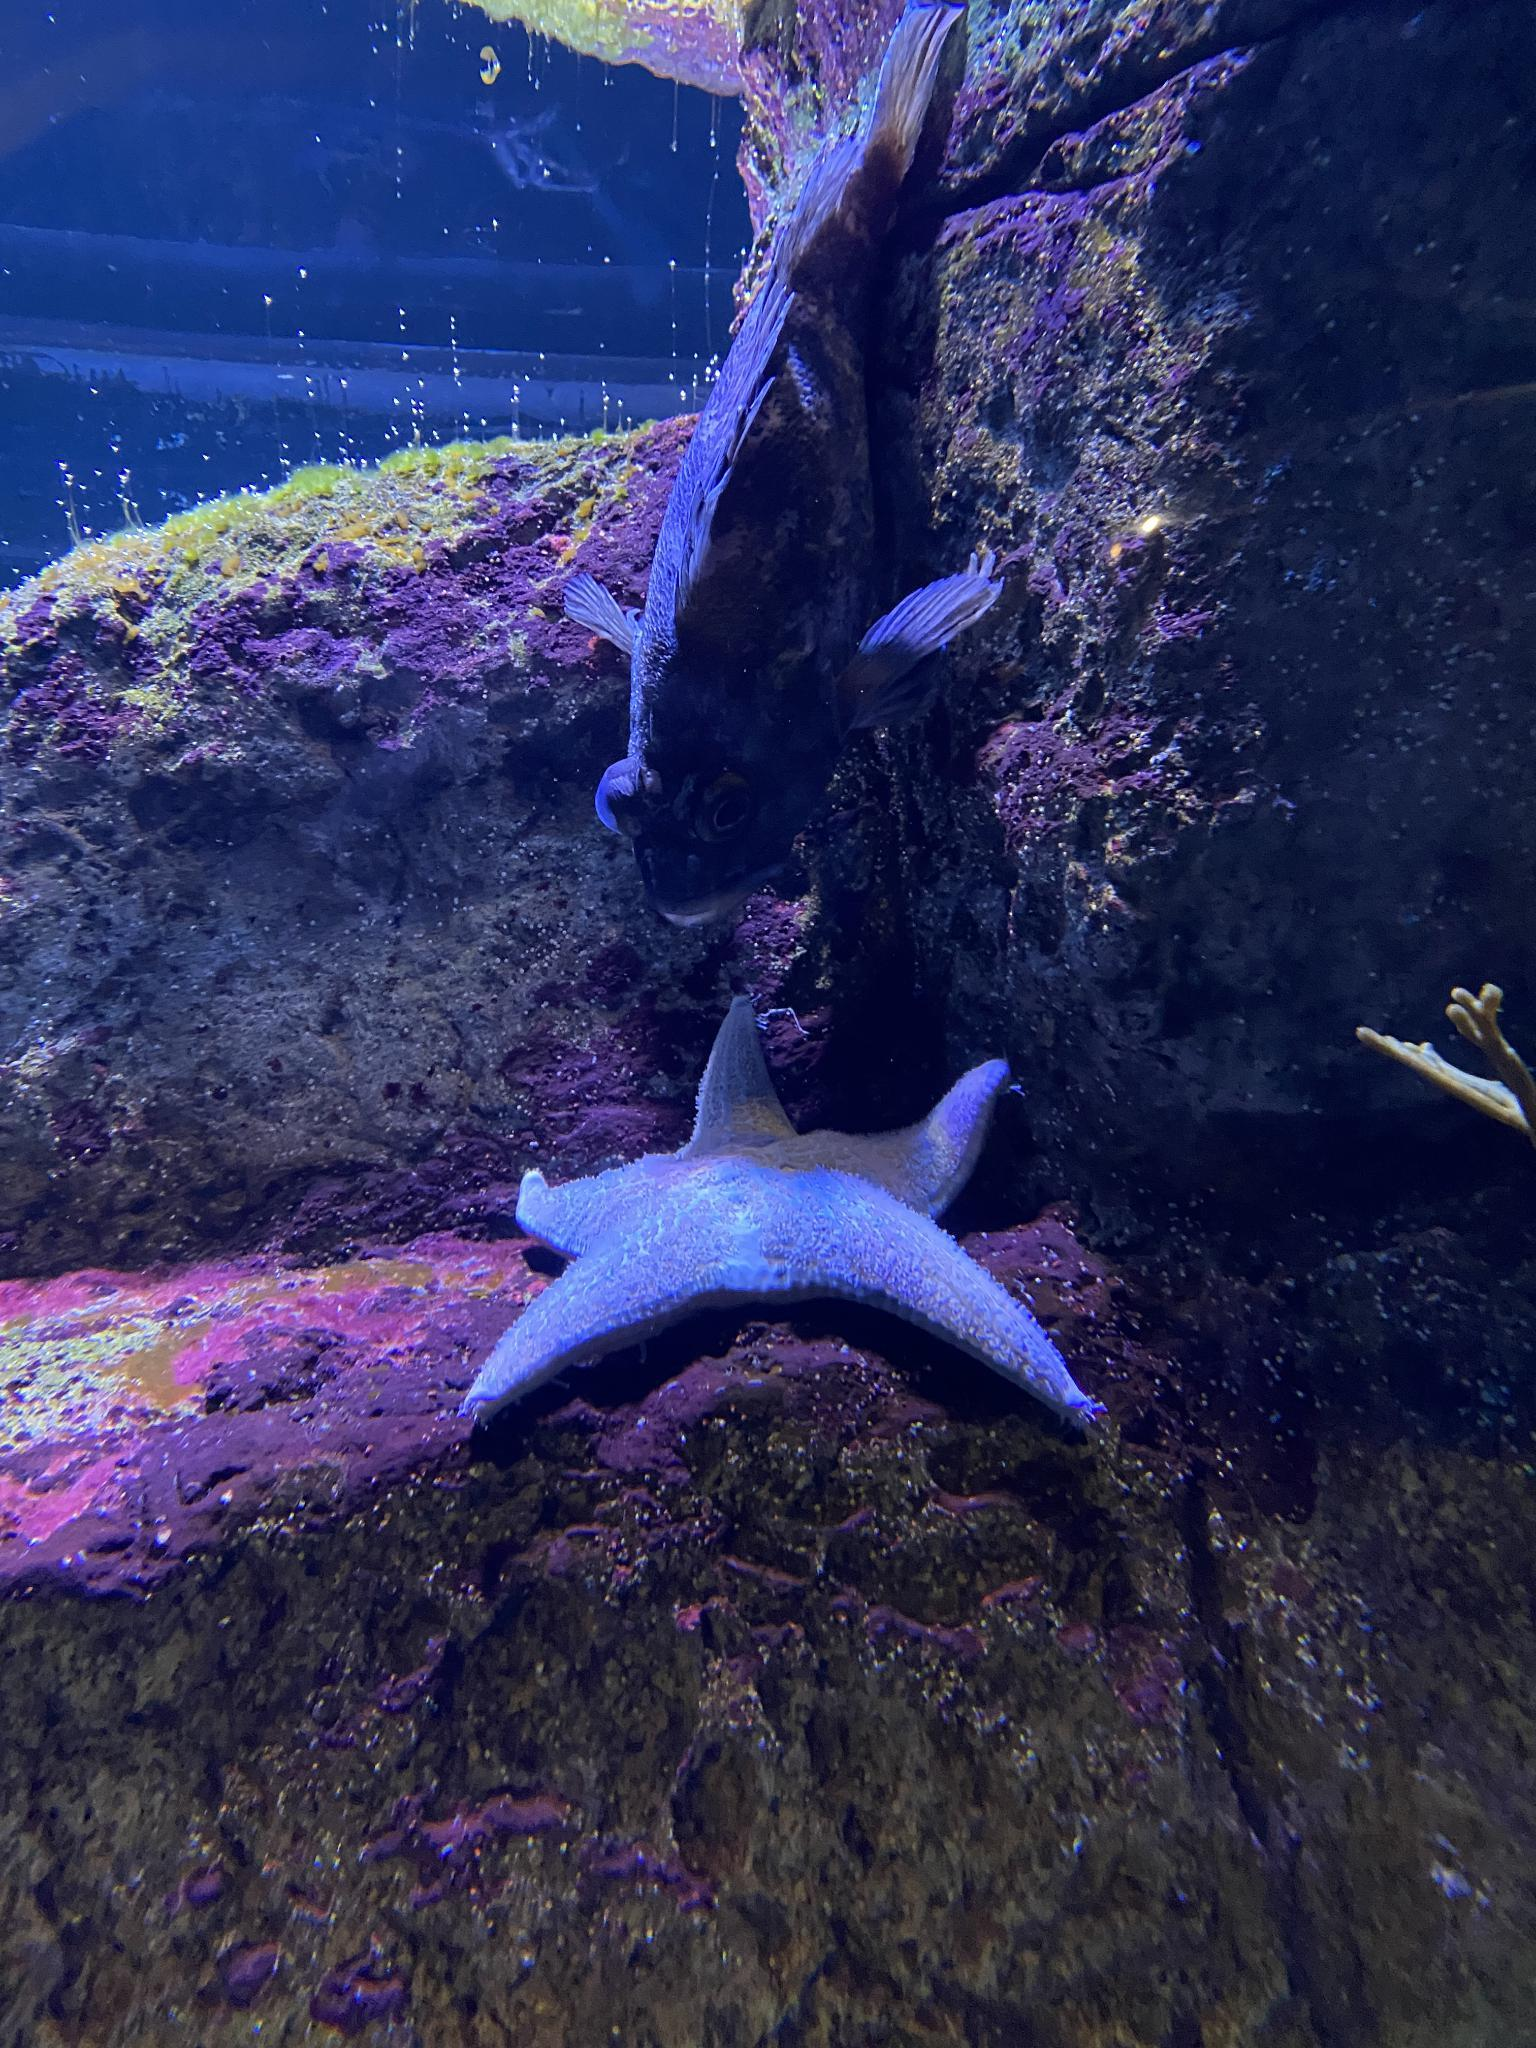fish: (565, 0, 999, 932)
starfish: (468, 997, 1104, 1437)
